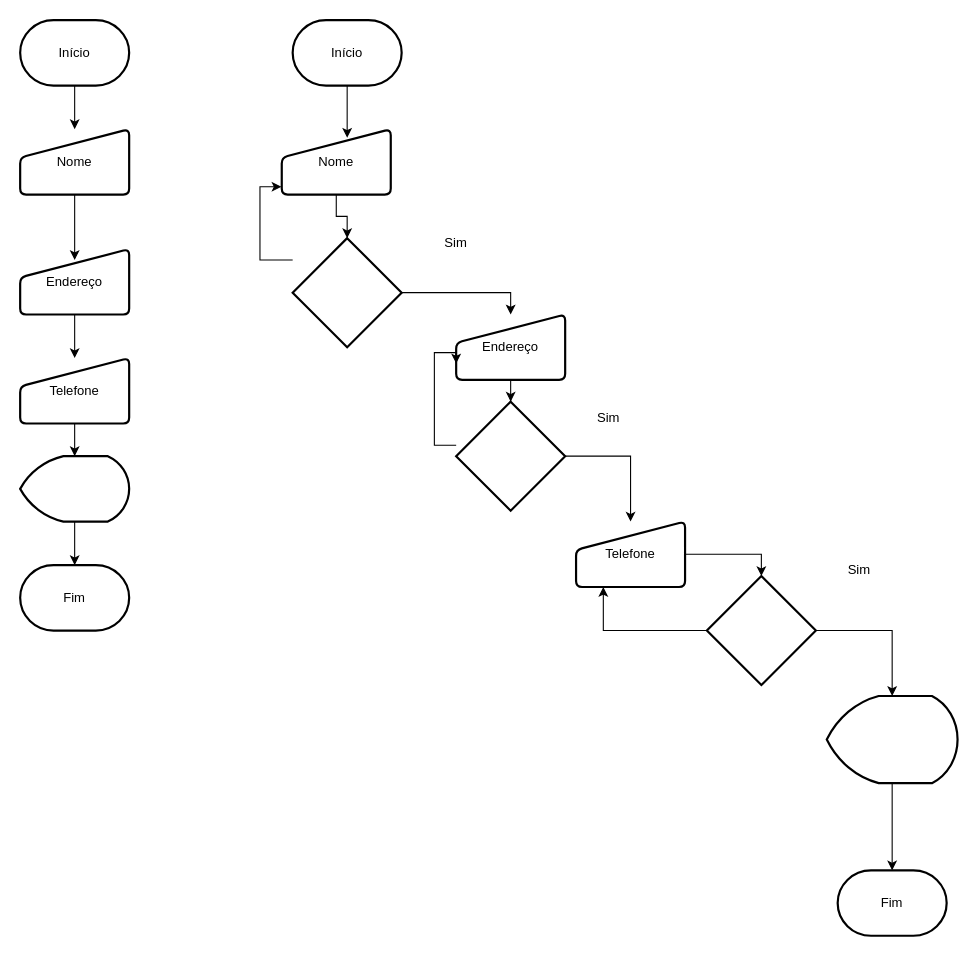
This 977x955 diagram has some shape labels left out. Here are the shapes that lost their labels. From the top down, the box of each, then its label:
(291, 237, 402, 348): é nome?
(455, 400, 566, 511): é endereço
(19, 455, 130, 522): Nome, endereço e telefone
(705, 574, 816, 686): é telefone?
(825, 694, 958, 784): Nome , Endereço e Telefone
